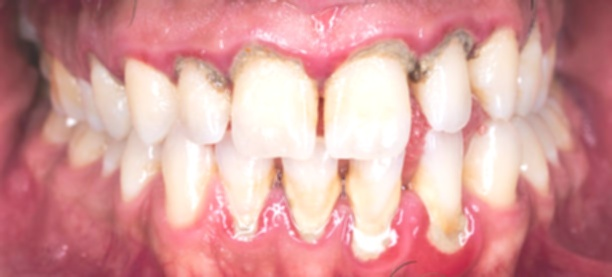Gingivitis: (23, 194, 158, 271), (412, 2, 496, 48), (403, 237, 487, 275), (296, 43, 348, 80)
